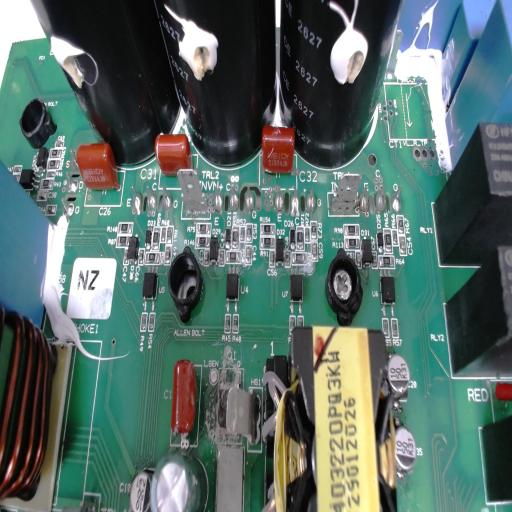pin_group: (124, 172, 178, 224), (270, 174, 320, 226), (204, 173, 259, 219), (356, 173, 405, 222)
solder_ball: (207, 179, 225, 217), (128, 176, 144, 214), (158, 184, 175, 216), (373, 182, 388, 216), (143, 181, 157, 216), (240, 181, 256, 211), (289, 184, 302, 219), (226, 184, 241, 214), (390, 178, 402, 214), (273, 184, 287, 214), (305, 182, 318, 214), (359, 181, 370, 217)
